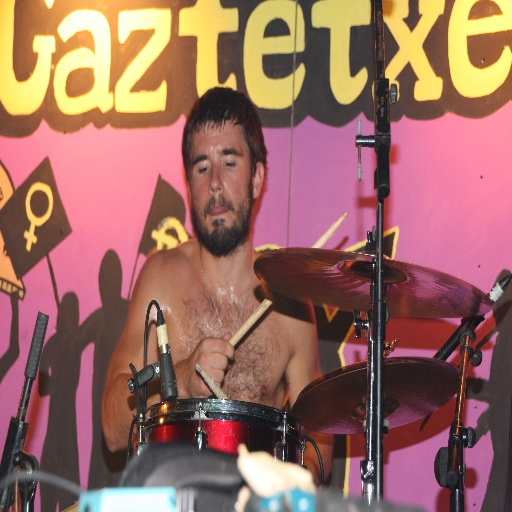hand: (186, 341, 237, 384)
